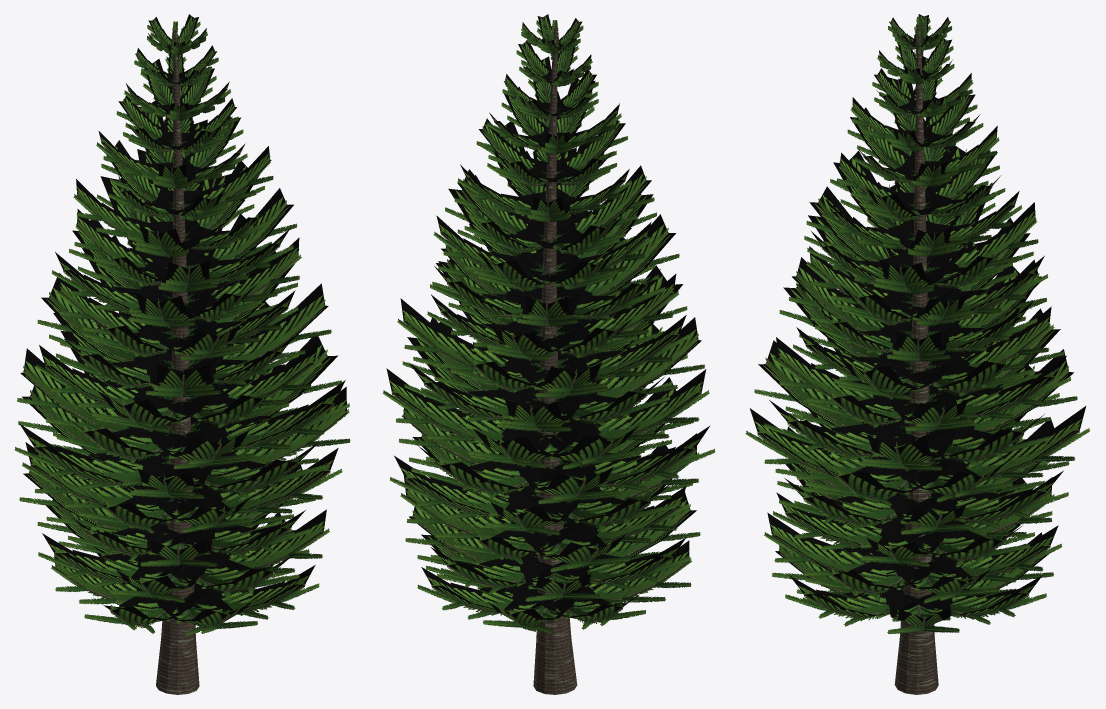
File: pohon_pinus_ekstra_besar.glb
3 views of the same model, side by side, from view 1: azimuth 30°, elevation 25°; view 2: azimuth 150°, elevation 25°; view 3: azimuth 270°, elevation 25° (orthographic).
Parts seen in each view (by area): view 1: Ranting_Daun_Pinus_Araucaria, Sulur_Jarum_Pinus_Norfolk, Batang_Dan_Cabang_Pinus; view 2: Ranting_Daun_Pinus_Araucaria, Sulur_Jarum_Pinus_Norfolk, Batang_Dan_Cabang_Pinus; view 3: Ranting_Daun_Pinus_Araucaria, Sulur_Jarum_Pinus_Norfolk, Batang_Dan_Cabang_Pinus.
Boxes of the visible parts, x1,y1,x2,y2 form: Ranting_Daun_Pinus_Araucaria: [19, 14, 347, 626]; Sulur_Jarum_Pinus_Norfolk: [14, 17, 350, 636]; Batang_Dan_Cabang_Pinus: [23, 18, 346, 694]; Ranting_Daun_Pinus_Araucaria: [386, 14, 710, 625]; Sulur_Jarum_Pinus_Norfolk: [382, 17, 715, 633]; Batang_Dan_Cabang_Pinus: [391, 17, 701, 694]; Ranting_Daun_Pinus_Araucaria: [750, 14, 1085, 627]; Sulur_Jarum_Pinus_Norfolk: [745, 16, 1089, 633]; Batang_Dan_Cabang_Pinus: [757, 16, 1079, 694].
Bounding box in the file's own units: 4.97 × 10.73 × 5.06.
3 materials, 3 textured.
